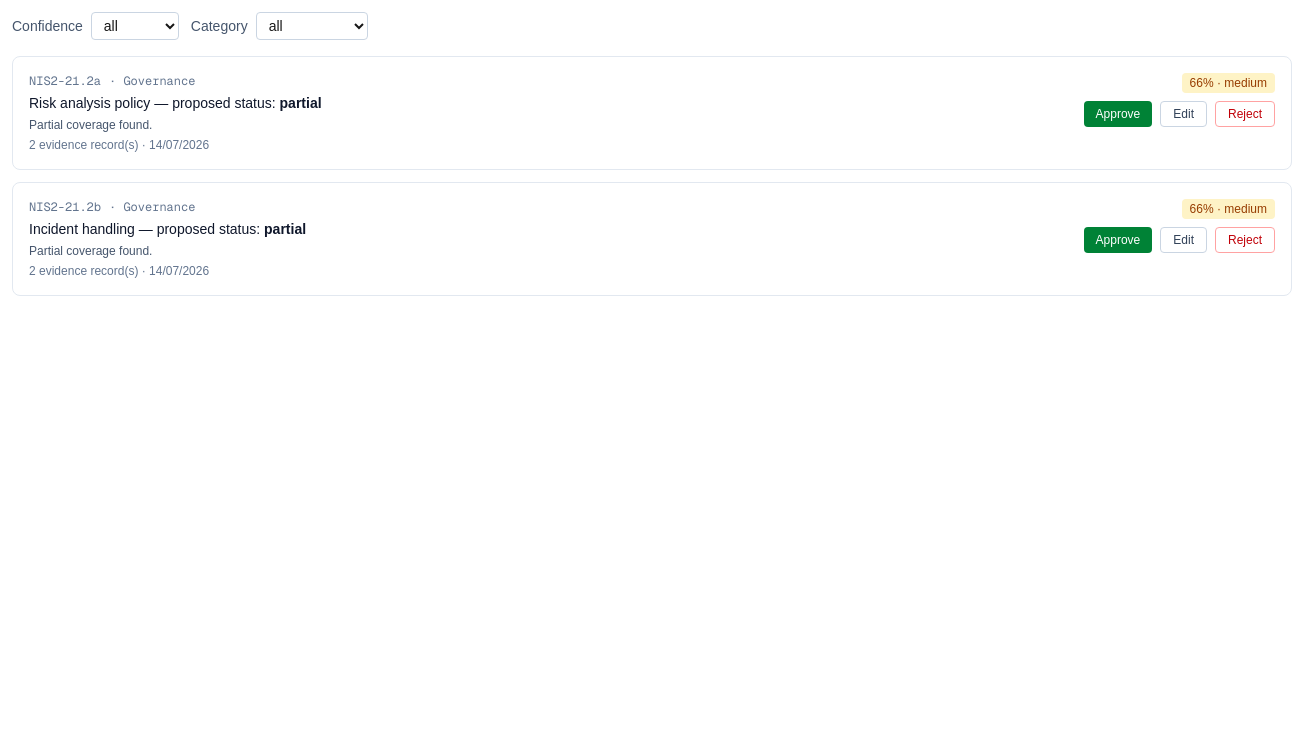
RecommendationList › a 409 keeps the row visible but replaced, explains why, and never retries
The image size is (1292, 732).
Click the button "Approve" in the row of "Risk analysis policy" at (1118, 114), box [1084,101,1152,127]
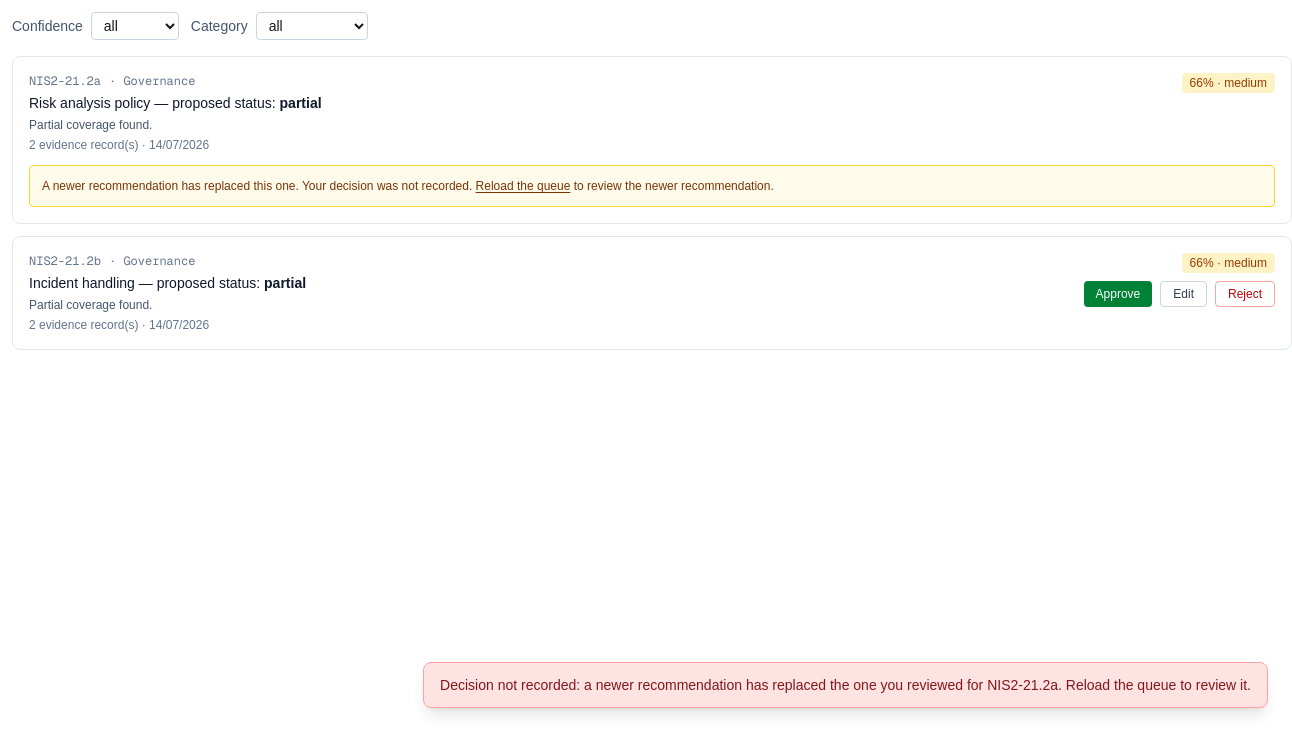
Result: the text "Your decision was not recorded" is shown at [42,179,472,193]
Result: the message shows "not recorded" at [440,677,1251,693]
Result: the message shows "a newer recommendation has replaced the one you reviewed for NIS2-21.2a" at [440,677,1251,693]
